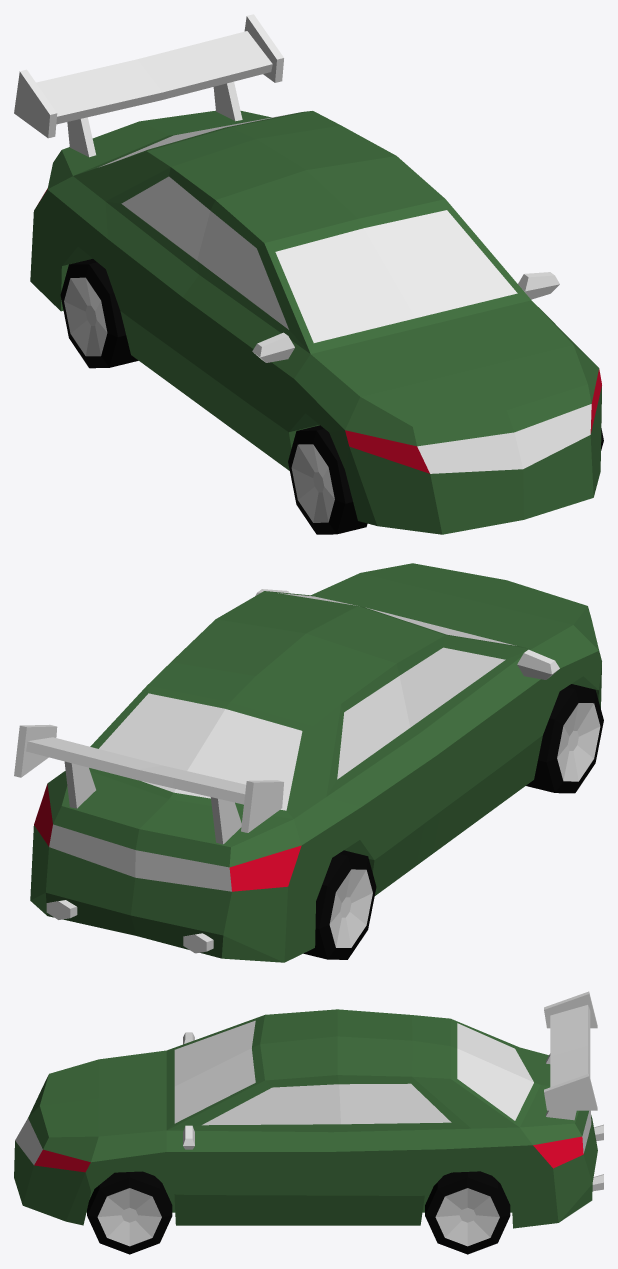
The model's file is Car-Passenger_1.fbx.
3 renders of one model, top to bottom at view 1: azimuth 30°, elevation 25°; view 2: azimuth 150°, elevation 25°; view 3: azimuth 270°, elevation 25°, orthographic. The views are drawn at different scales.
Visible parts, largest first — view 1: car-passenger-race-base, car-passenger-race-wheel_BR, car-passenger-race-wheel_FR; view 2: car-passenger-race-base, car-passenger-race-wheel_FR, car-passenger-race-wheel_BR; view 3: car-passenger-race-base, car-passenger-race-wheel_BL, car-passenger-race-wheel_FL.
Boxes of the visible parts, bbox=[...] form: car-passenger-race-base: bbox=[14, 14, 601, 534]; car-passenger-race-wheel_BR: bbox=[60, 258, 138, 368]; car-passenger-race-wheel_FR: bbox=[288, 425, 367, 534]; car-passenger-race-base: bbox=[14, 563, 601, 962]; car-passenger-race-wheel_FR: bbox=[526, 684, 603, 793]; car-passenger-race-wheel_BR: bbox=[303, 850, 376, 959]; car-passenger-race-base: bbox=[14, 991, 603, 1228]; car-passenger-race-wheel_BL: bbox=[425, 1171, 510, 1254]; car-passenger-race-wheel_FL: bbox=[87, 1171, 172, 1254].
Bounding box in the file's own units: 2.1 × 1.57 × 4.81.
